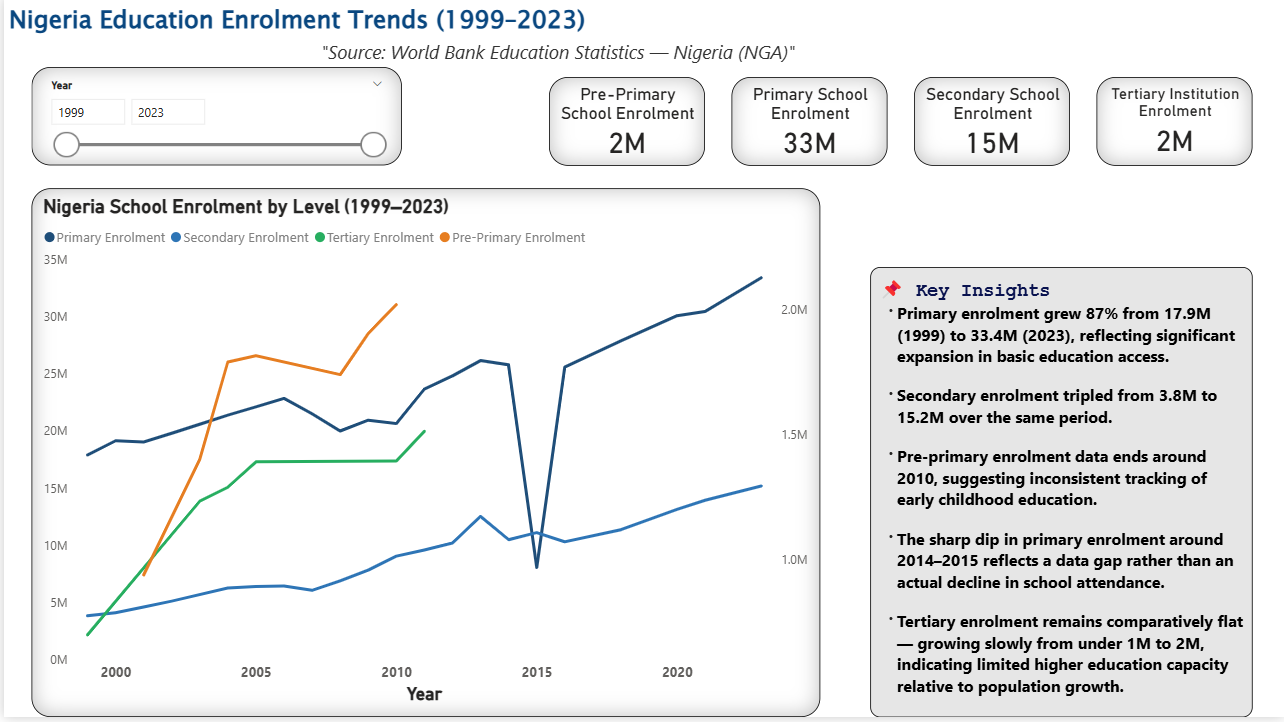

Layout of this report page (visuals, bound fields, positions):
{"tool":"powerbi","page":{"name":"Enrolment Trends","canvas":[1280,720],"ordinal":0},"visuals":[{"type":"lineChart","title":"Nigeria School Enrolment by Level (1999–2023)","fields":{"Category":["PowerBI_Data.Year"],"Y":["Sum(PowerBI_Data.Primary Enrolment)","Sum(PowerBI_Data.Secondary Enrolment)"],"Y2":["Sum(PowerBI_Data.Tertiary Enrolment)","Sum(PowerBI_Data.Pre-Primary Enrolment)"]},"box":[27.5,191.2,788.8,528.8],"z":0},{"type":"card","title":"Pre-Primary School Enrolment","fields":{"Values":["Max(PowerBI_Data.Pre-Primary Enrolment)"]},"box":[545,80,156.2,88.8],"z":1000},{"type":"textbox","box":[0,0,796.1,79.5],"z":2000},{"type":"card","title":"Primary School Enrolment","fields":{"Values":["Max(PowerBI_Data.Primary Enrolment)"]},"box":[727.5,80,156.2,88.8],"z":3000},{"type":"card","title":"Tertiary Institution Enrolment","fields":{"Values":["Max(PowerBI_Data.Tertiary Enrolment)"]},"box":[1092.5,80,156.2,88.8],"z":4000},{"type":"card","title":"Secondary School Enrolment","fields":{"Values":["Max(PowerBI_Data.Secondary Enrolment)"]},"box":[910,80,156.2,88.8],"z":5000},{"type":"slicer","fields":{"Values":["PowerBI_Data.Year"]},"box":[27.5,70,370,98.8],"z":6000},{"type":"textbox","box":[866.2,270,382.5,450],"z":7000}]}

Visuals, with their boxes in screenshot pixels (x1, y1, x2, y2), scaled from the page's 1280x720 canvas onto the 1284x722 screenshot:
"Nigeria School Enrolment by Level (1999–2023)" lineChart: crop(28, 192, 819, 721)
"Pre-Primary School Enrolment" card: crop(547, 80, 703, 169)
textbox: crop(0, 0, 799, 80)
"Primary School Enrolment" card: crop(730, 80, 886, 169)
"Tertiary Institution Enrolment" card: crop(1096, 80, 1253, 169)
"Secondary School Enrolment" card: crop(913, 80, 1070, 169)
slicer - PowerBI_Data.Year: crop(28, 70, 399, 169)
textbox: crop(869, 271, 1253, 721)
